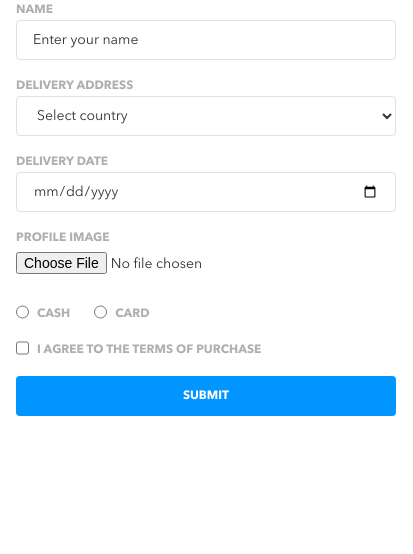
Test: Form › Error has occured in name input, if input does not fill
Click the button "Submit": point(206, 396) [16, 376, 396, 416]
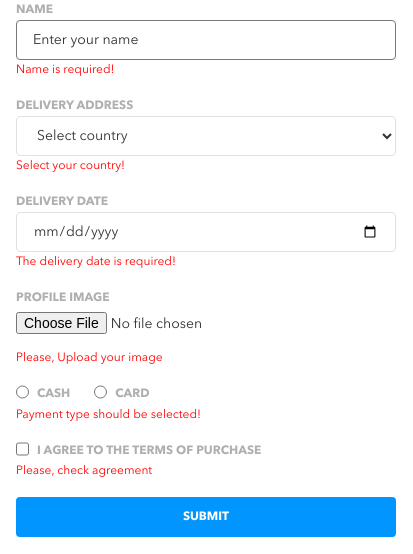
Expected: the text "Name is required!" is shown, [16, 64, 114, 76]
